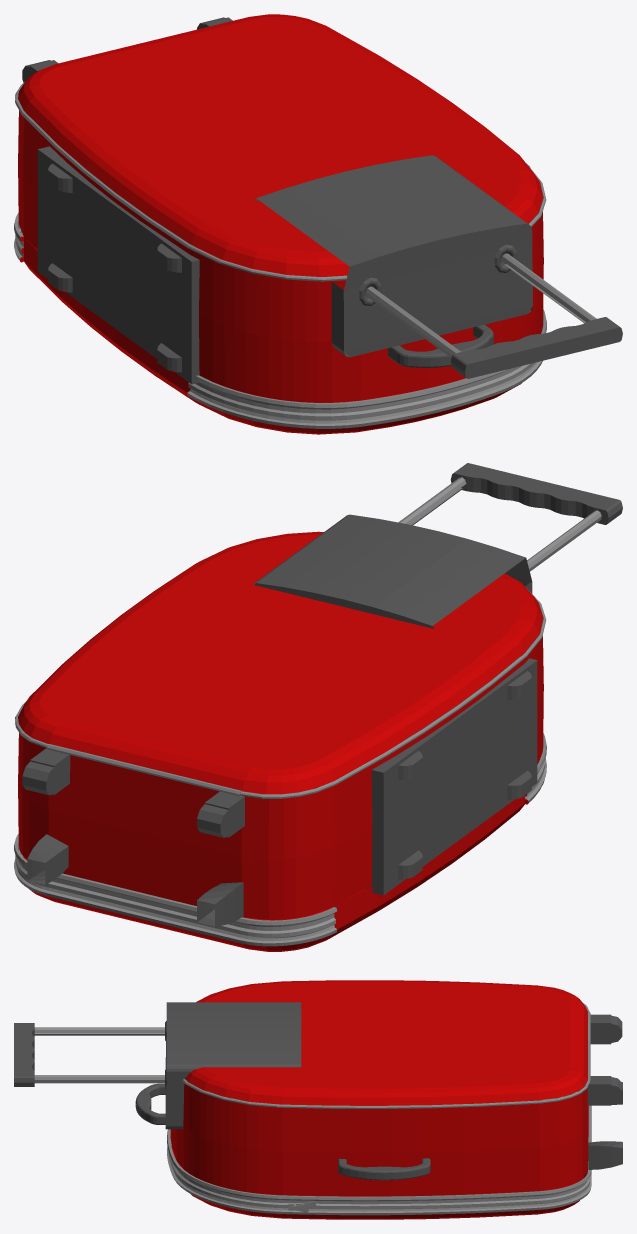
3 views of the same model, one above another, from view 1: azimuth 30°, elevation 25°; view 2: azimuth 150°, elevation 25°; view 3: azimuth 270°, elevation 25° (orthographic). The views are drawn at different scales.
Parts seen in each view (by area): view 1: luggage; view 2: luggage; view 3: luggage.
Boxes of the visible parts, x1,y1,x2,y2 form: luggage: [14, 14, 622, 434]; luggage: [14, 463, 622, 951]; luggage: [14, 980, 622, 1219].
Size of the model in its own units: 17.36 by 8.1 by 32.71.
